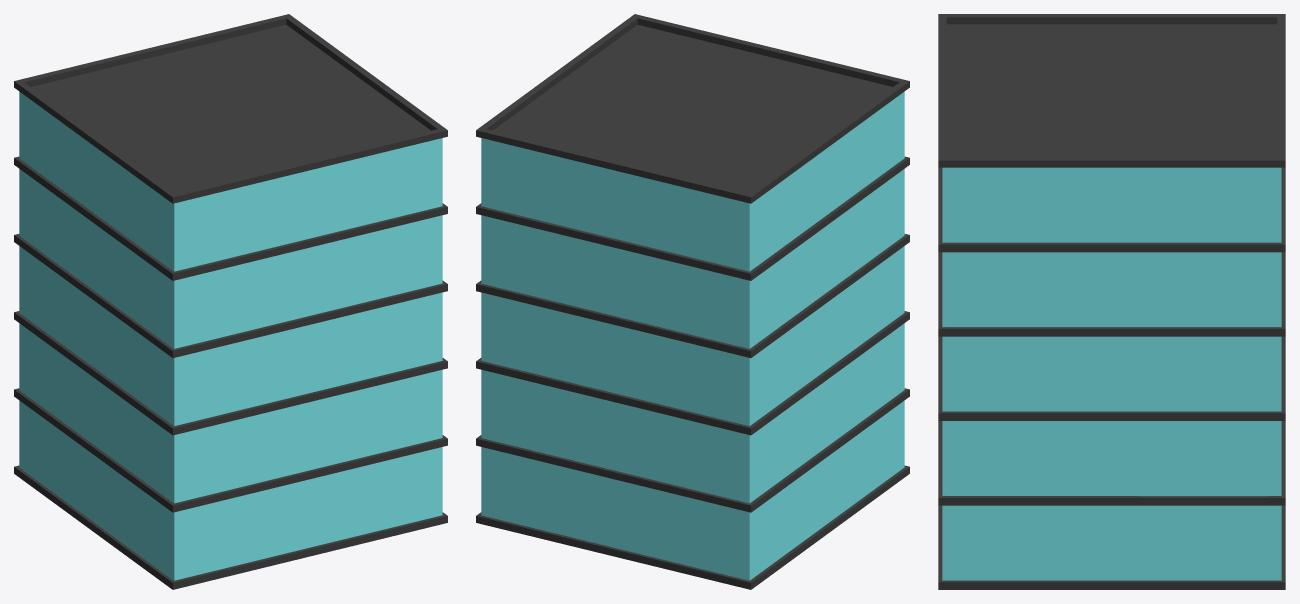
The model's file is Big.fbx.
The picture shows the model from 3 angles, left to right: view 1: azimuth 30°, elevation 25°; view 2: azimuth 150°, elevation 25°; view 3: azimuth 270°, elevation 25°; orthographic projection. The views are drawn at different scales.
Parts seen in each view (by area): view 1: BigSquare; view 2: BigSquare; view 3: BigSquare.
Part boxes in pixels (x1,y1,x2,y2): BigSquare: (14, 14, 447, 589); BigSquare: (476, 14, 909, 589); BigSquare: (938, 14, 1285, 589).
Size of the model in its own units: 8.2 by 11.18 by 8.2.
